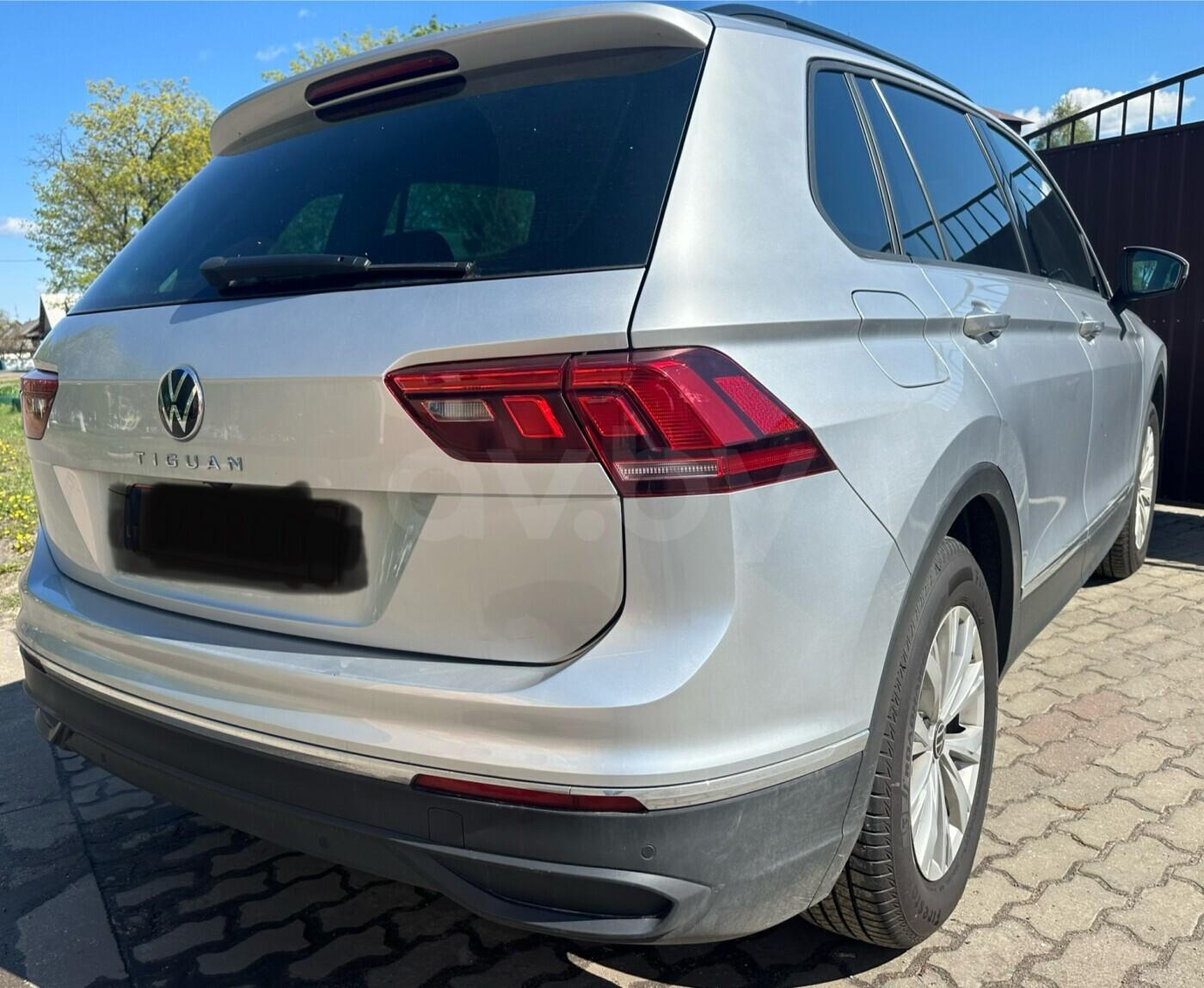Tiguan_2020-2024: (6, 14, 1189, 952)
